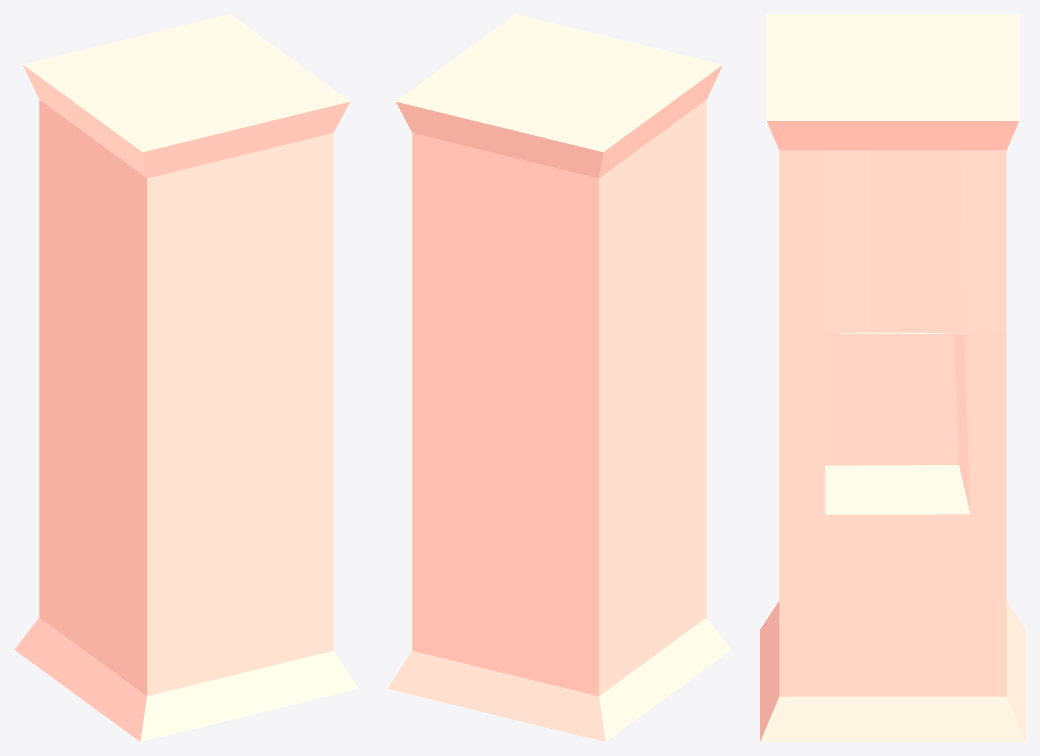
File: saule_mit_halbloch_platz.fbx
The picture shows the model from 3 angles, left to right: view 1: azimuth 30°, elevation 25°; view 2: azimuth 150°, elevation 25°; view 3: azimuth 270°, elevation 25°; orthographic projection. The views are drawn at different scales.
Visible parts, largest first — view 1: Cube; view 2: Cube; view 3: Cube.
Part boxes in pixels (left/top/right/bottom): Cube: left=14, top=14, right=358, bottom=741; Cube: left=387, top=14, right=731, bottom=741; Cube: left=760, top=14, right=1025, bottom=741.
Size of the model in its own units: 2.34 by 6 by 2.34.
